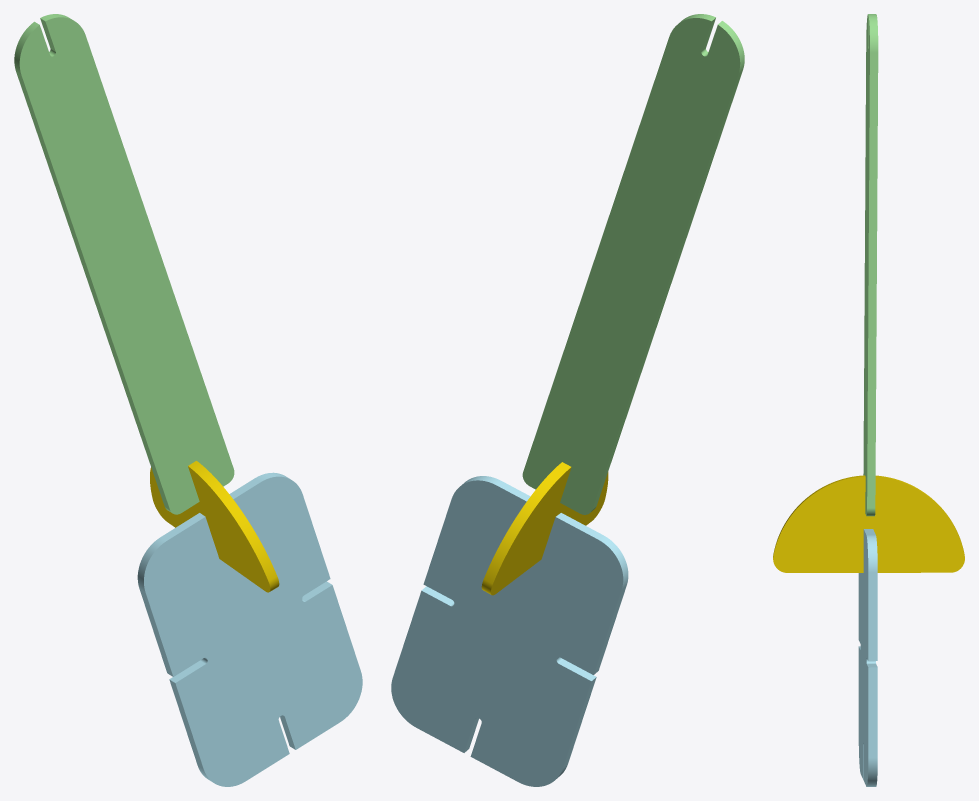
The model's file is forma.glb.
3 views of the same model, side by side, from view 1: azimuth 30°, elevation 25°; view 2: azimuth 150°, elevation 25°; view 3: azimuth 270°, elevation 25° (orthographic). The views are drawn at different scales.
Parts seen in each view (by area): view 1: 01, 03, 02; view 2: 01, 03, 02; view 3: 02, 03, 01.
Part boxes in pixels (x1,y1,x2,y2): 01: [137, 472, 362, 786]; 03: [14, 14, 234, 514]; 02: [150, 461, 279, 592]; 01: [391, 476, 628, 786]; 03: [522, 14, 744, 514]; 02: [481, 462, 608, 595]; 02: [773, 475, 964, 572]; 03: [863, 14, 878, 516]; 01: [858, 529, 877, 786].
Bounding box in the file's own units: 83.02 × 186 × 47.48.
